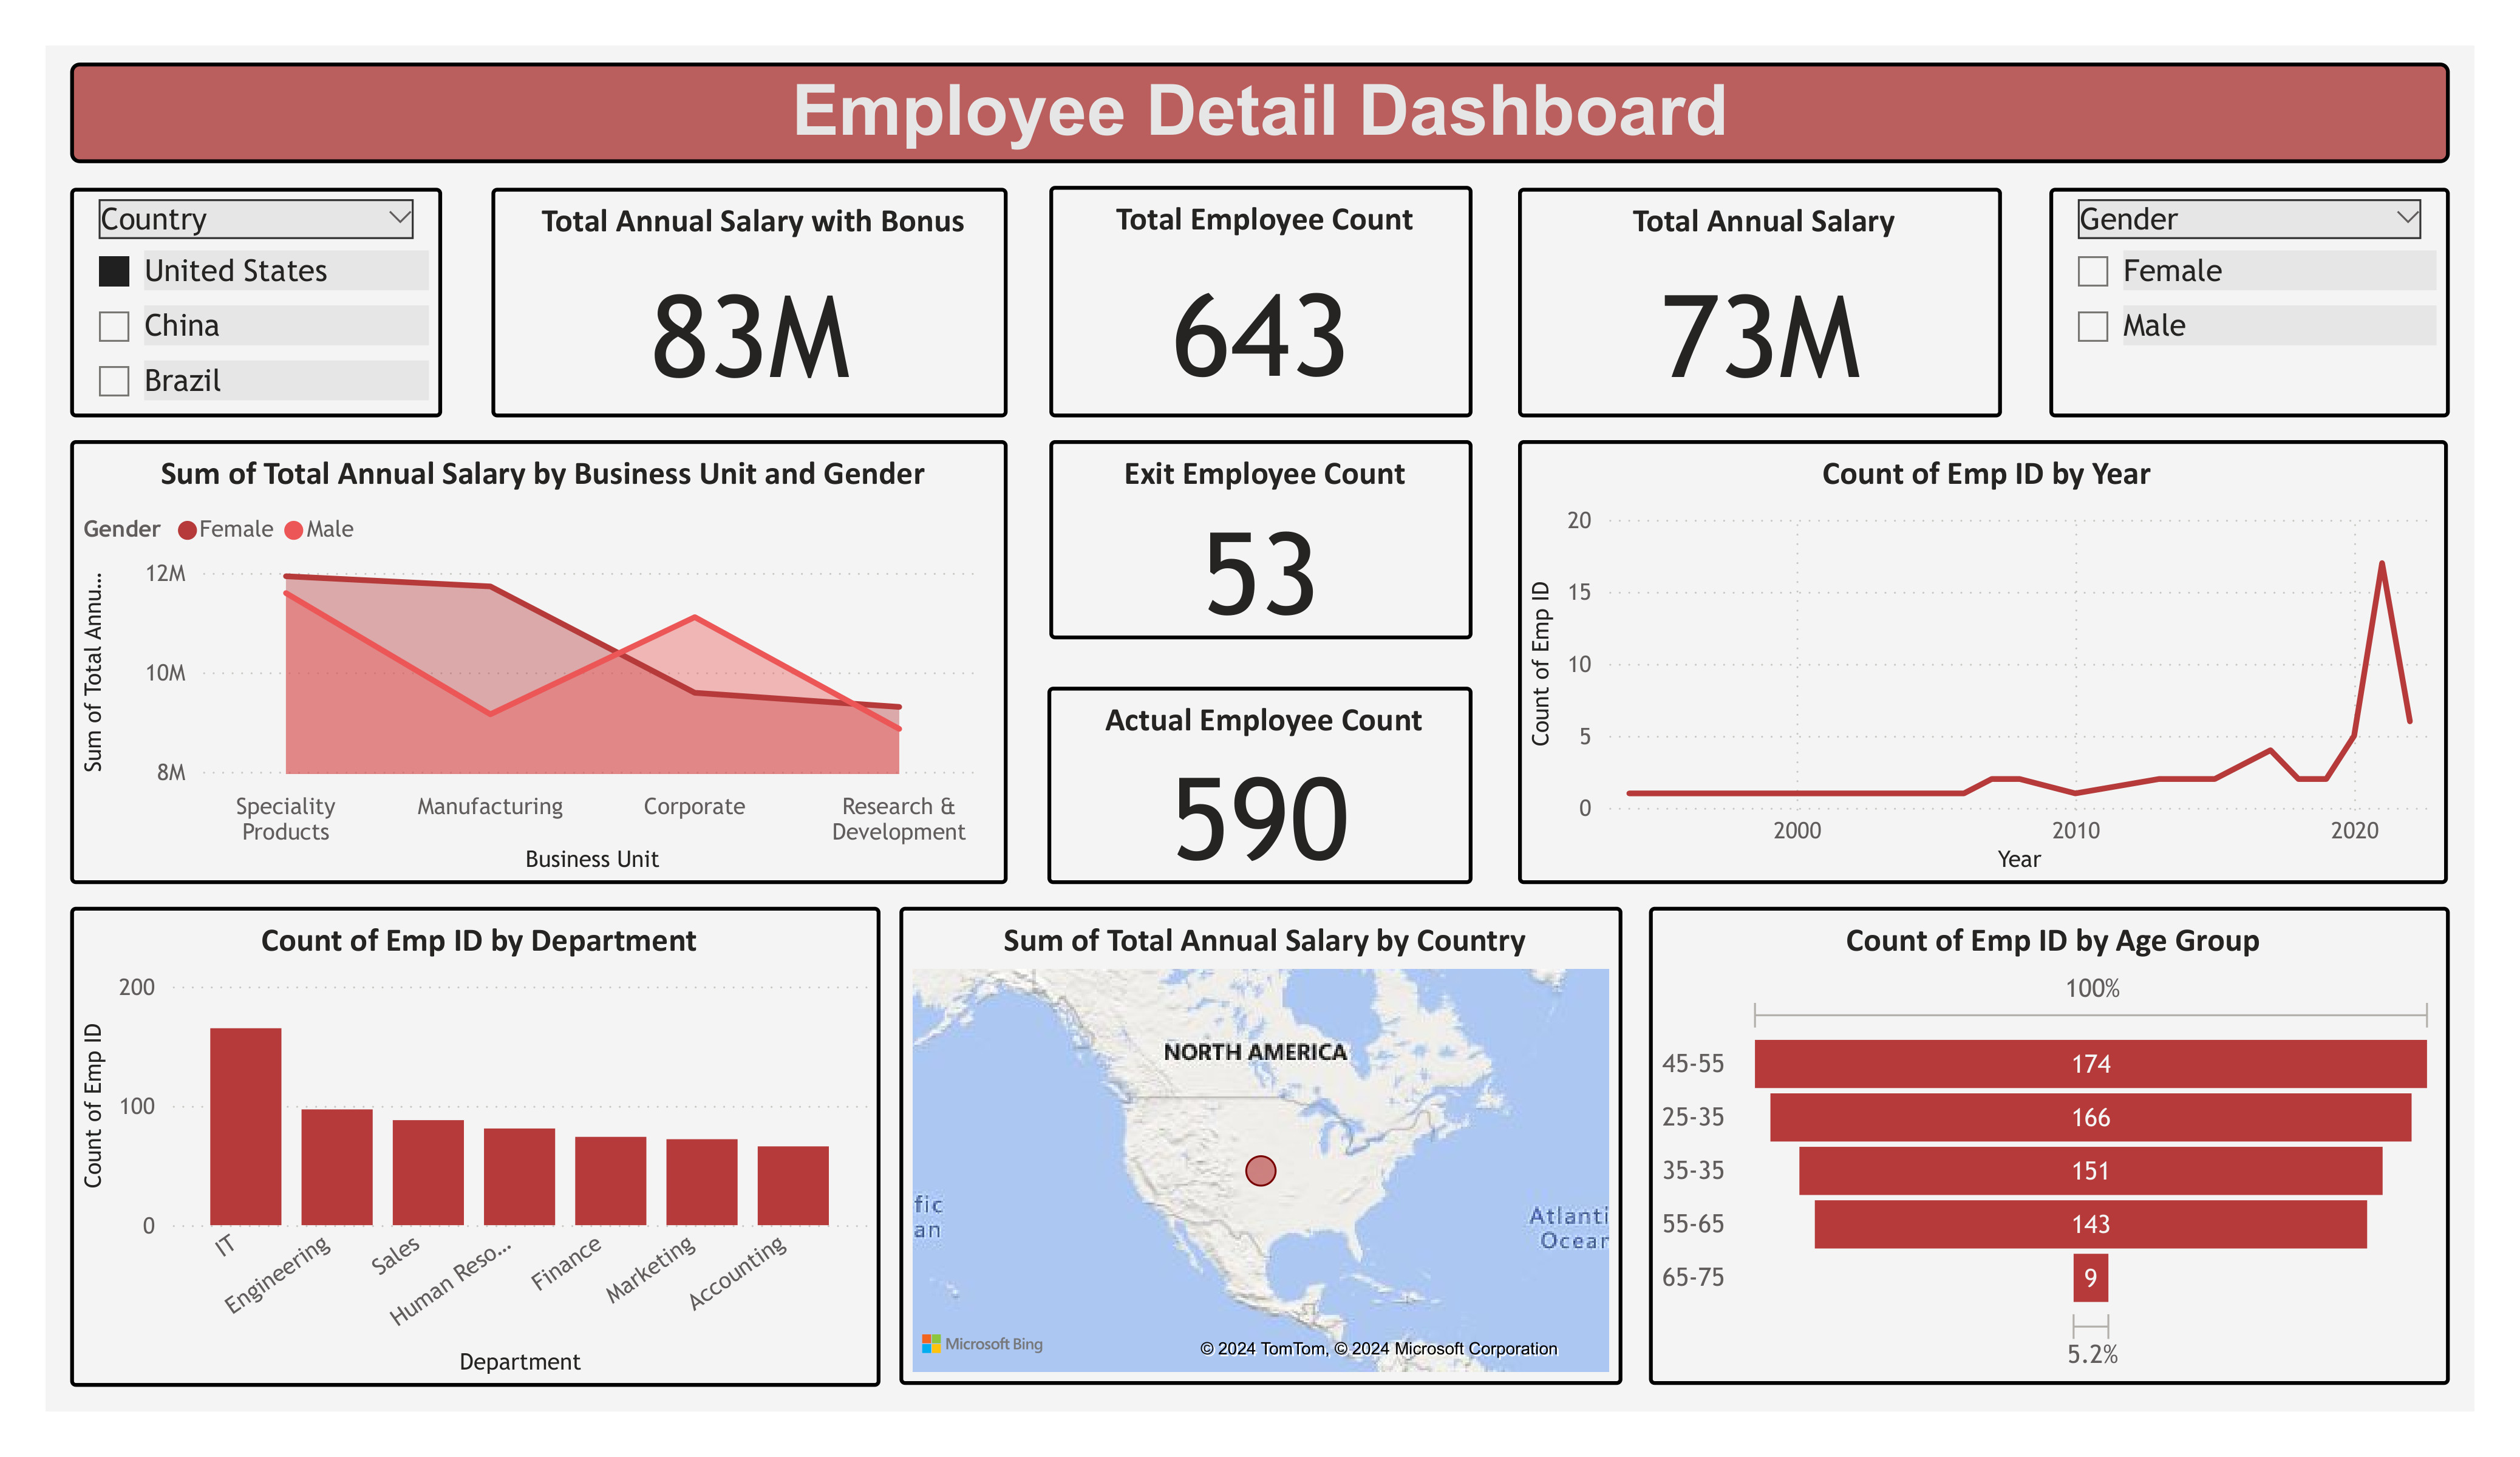

This screenshot's page, from the dashboard's own definition file:
{"tool":"powerbi","page":{"name":"Page 1","canvas":[1280,720],"ordinal":0},"visuals":[{"type":"textbox","box":[12.9,9.4,1254.1,52.9],"z":0},{"type":"card","title":"Total  Annual Salary with Bonus","fields":{"Values":["Sum(Sheet1.Total Annual Salary)"]},"box":[234.9,74.7,271.7,121],"z":1000},{"type":"card","title":"Total Employee Count","fields":{"Values":["CountNonNull(Sheet1.Emp ID.1)"]},"box":[529.2,73.6,223.1,122.2],"z":2000},{"type":"card","title":"Exit Employee Count","fields":{"Values":["CountNonNull(Sheet1.Exit Date)"]},"box":[529.4,208.2,222.4,104.7],"z":3000},{"type":"card","title":"Actual Employee Count","fields":{"Values":["Sum(Sheet1.Actual Exit)"]},"box":[528,325,224,117],"z":4000},{"type":"card","title":"Total Annual Salary","fields":{"Values":["Sum(Sheet1.Annual Salary)"]},"box":[776,74.7,255.1,121],"z":5000},{"type":"lineChart","fields":{"Y":["CountNonNull(Sheet1.Emp ID)"],"Category":["Sheet1.Exit Date.Variation.Date Hierarchy.Year"]},"box":[776.5,208.2,489.4,234.1],"z":6000},{"type":"columnChart","fields":{"Y":["CountNonNull(Sheet1.Emp ID)"],"Category":["Sheet1.Department"]},"box":[12.9,454.1,427.1,252.9],"z":7000},{"type":"map","fields":{"Category":["Sheet1.Country"],"Size":["Sum(Sheet1.Total Annual Salary)"]},"box":[450,453.6,381,252.4],"z":8000},{"type":"funnel","fields":{"Category":["Sheet1.Age Group"],"Y":["CountNonNull(Sheet1.Emp ID)"]},"box":[845.2,453.6,421.4,252.4],"z":9000},{"type":"areaChart","fields":{"Category":["Sheet1.Business Unit"],"Y":["Sum(Sheet1.Total Annual Salary)"],"Series":["Sheet1.Gender"]},"box":[12.9,208.2,494.1,234.1],"z":10000},{"type":"slicer","fields":{"Values":["Sheet1.Gender"]},"box":[1056,74.7,211.2,121],"z":11000},{"type":"slicer","fields":{"Values":["Sheet1.Country"]},"box":[12.9,75.3,196.5,121.2],"z":12000}]}

Visuals, with their boxes on the page's 1280x720 design canvas (x1, y1, x2, y2). These are canvas units, not pixel positions in the 2520x1457 screenshot, which may show the page scaled, cropped or inside an application window:
textbox: (13, 9, 1267, 62)
"Total  Annual Salary with Bonus" card: (235, 75, 507, 196)
"Total Employee Count" card: (529, 74, 752, 196)
"Exit Employee Count" card: (529, 208, 752, 313)
"Actual Employee Count" card: (528, 325, 752, 442)
"Total Annual Salary" card: (776, 75, 1031, 196)
lineChart - CountNonNull(Sheet1.Emp ID) x Sheet1.Exit Date.Variation.Date Hierarchy.Year: (776, 208, 1266, 442)
columnChart - CountNonNull(Sheet1.Emp ID) x Sheet1.Department: (13, 454, 440, 707)
map - Sheet1.Country x Sum(Sheet1.Total Annual Salary): (450, 454, 831, 706)
funnel - Sheet1.Age Group x CountNonNull(Sheet1.Emp ID): (845, 454, 1267, 706)
areaChart - Sheet1.Business Unit x Sum(Sheet1.Total Annual Salary): (13, 208, 507, 442)
slicer - Sheet1.Gender: (1056, 75, 1267, 196)
slicer - Sheet1.Country: (13, 75, 209, 196)
